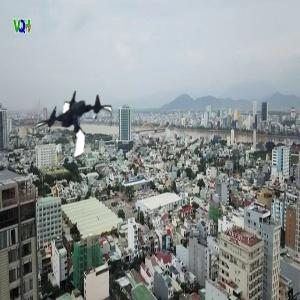drone: (32, 86, 116, 170)
